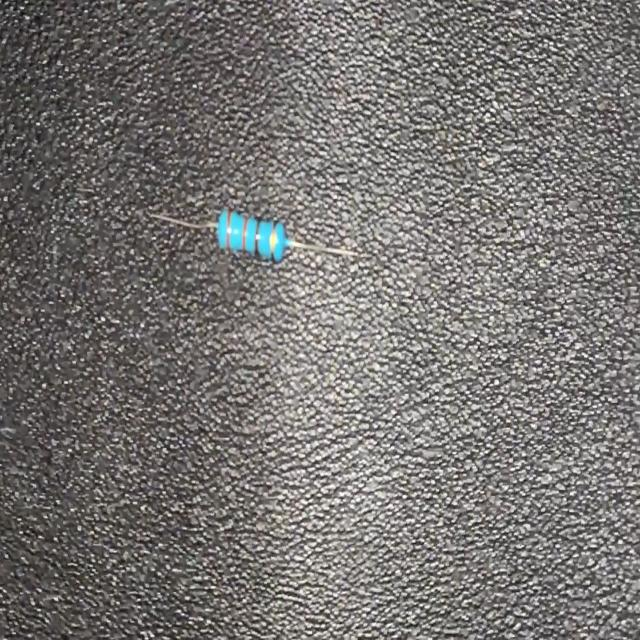resistor: (152, 204, 360, 276)
